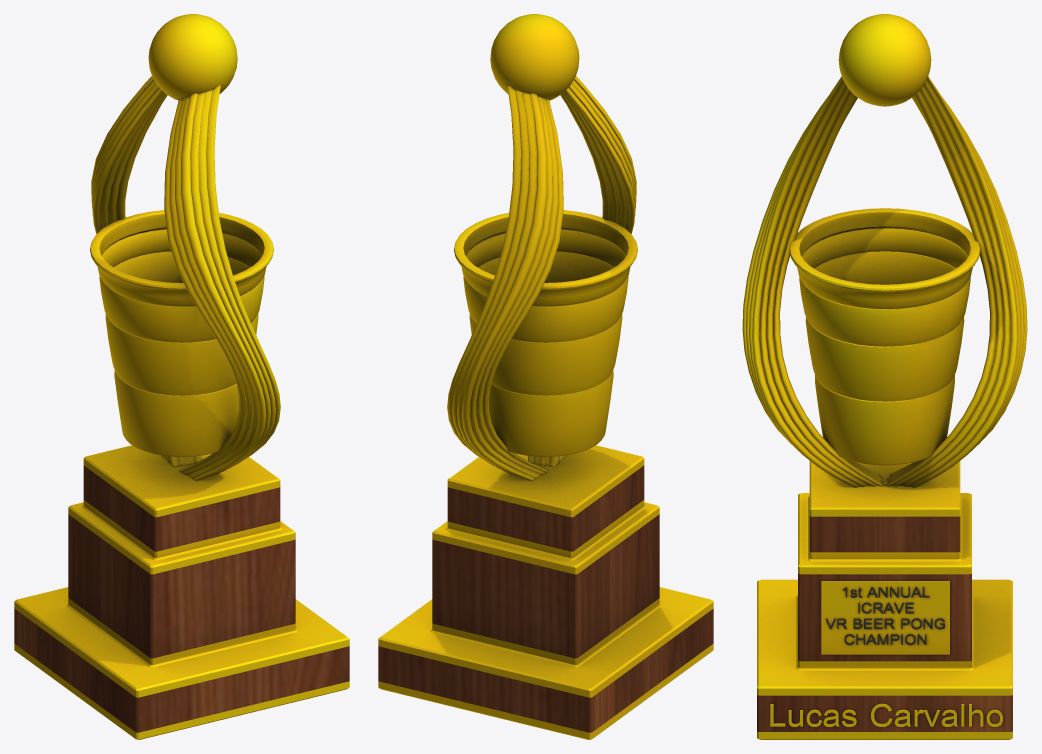
File: Trophy.fbx
3 views of the same model, side by side, from view 1: azimuth 30°, elevation 25°; view 2: azimuth 150°, elevation 25°; view 3: azimuth 270°, elevation 25° (orthographic). The views are drawn at different scales.
Parts seen in each view (by area): view 1: Object001; view 2: Object001; view 3: Object001.
Boxes of the visible parts, x1,y1,x2,y2 form: Object001: (14, 14, 349, 739); Object001: (378, 14, 713, 739); Object001: (742, 14, 1027, 739).
Bounding box in the file's own units: 22.25 × 64.11 × 24.57.
1 material, 1 textured.
